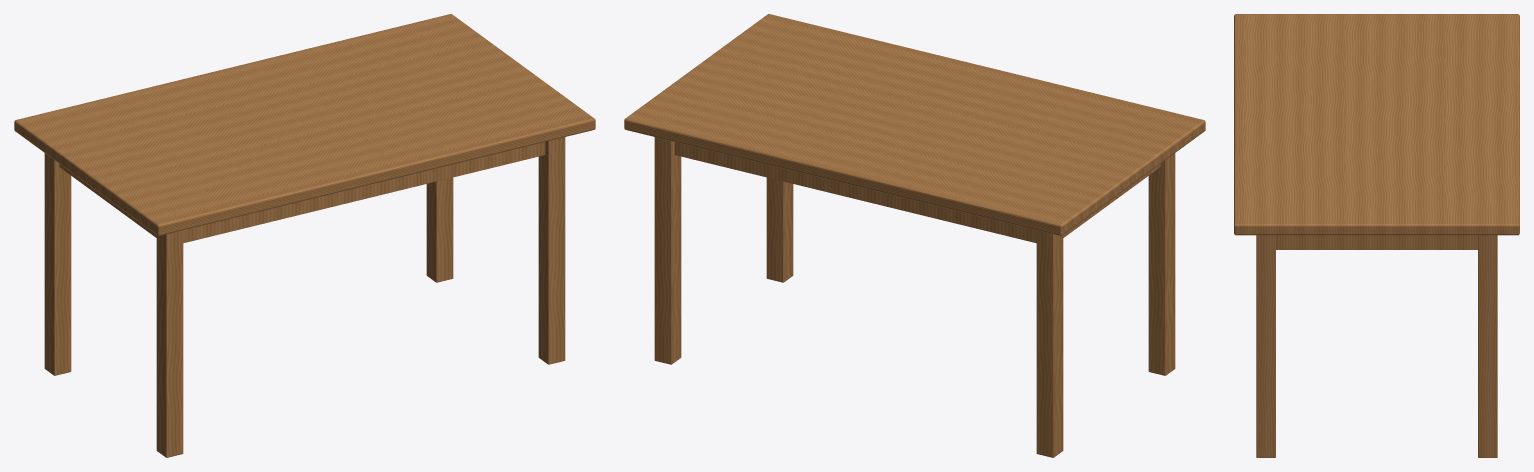
Rendered from FURN_TABLE_DINING_1400_OAK.glb.
3 renders of one model, left to right at view 1: azimuth 30°, elevation 25°; view 2: azimuth 150°, elevation 25°; view 3: azimuth 270°, elevation 25°, orthographic.
Parts seen in each view (by area): view 1: Oak_Tabletop, Straight_Oak_Leg, Straight_Oak_Leg.002, Straight_Oak_Leg.001, Long_Apron, Straight_Oak_Leg.003; view 2: Oak_Tabletop, Straight_Oak_Leg.001, Straight_Oak_Leg.003, Straight_Oak_Leg, Long_Apron.001, Straight_Oak_Leg.002; view 3: Oak_Tabletop, Straight_Oak_Leg.002, Straight_Oak_Leg.003, End_Apron.001.
Part boxes in pixels (x1,y1,x2,y2): Oak_Tabletop: (14,14,595,235); Straight_Oak_Leg: (156,230,183,457); Straight_Oak_Leg.002: (538,137,565,364); Straight_Oak_Leg.001: (44,153,71,375); Long_Apron: (183,142,545,243); Straight_Oak_Leg.003: (426,177,453,282); Oak_Tabletop: (624,14,1205,235); Straight_Oak_Leg.001: (1036,230,1063,457); Straight_Oak_Leg.003: (654,137,681,364); Straight_Oak_Leg: (1148,153,1175,375); Long_Apron.001: (674,142,1036,243); Straight_Oak_Leg.002: (766,177,793,282); Oak_Tabletop: (1234,14,1519,235); Straight_Oak_Leg.002: (1256,235,1275,457); Straight_Oak_Leg.003: (1478,235,1497,457); End_Apron.001: (1276,235,1477,249).
Size of the model in its own units: 1.4 by 0.75 by 0.8.
Materials: 1 (1 with a texture image).
